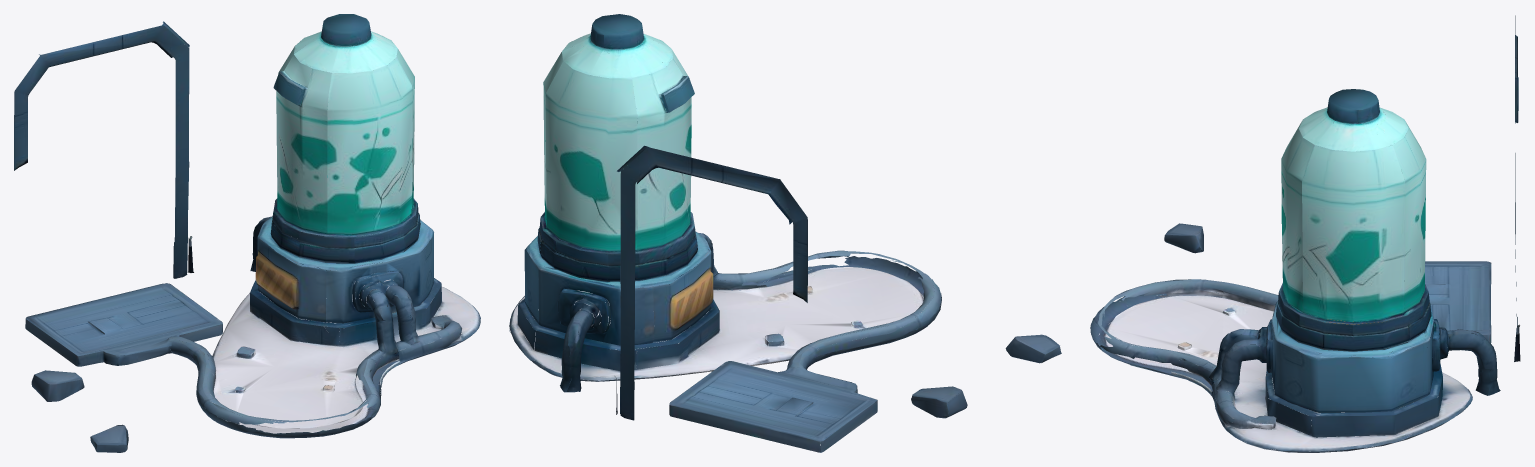
The model's file is tank.glb.
3 views of the same model, side by side, from view 1: azimuth 30°, elevation 25°; view 2: azimuth 150°, elevation 25°; view 3: azimuth 270°, elevation 25° (orthographic). The views are drawn at different scales.
Parts seen in each view (by area): view 1: tank; view 2: tank; view 3: tank.
Part boxes in pixels (x1,y1,x2,y2): tank: (14,14,480,452); tank: (509,14,1061,452); tank: (1090,15,1520,452).
Size of the model in its own units: 0.782 by 0.5072 by 0.6404.
1 material, 1 textured.
